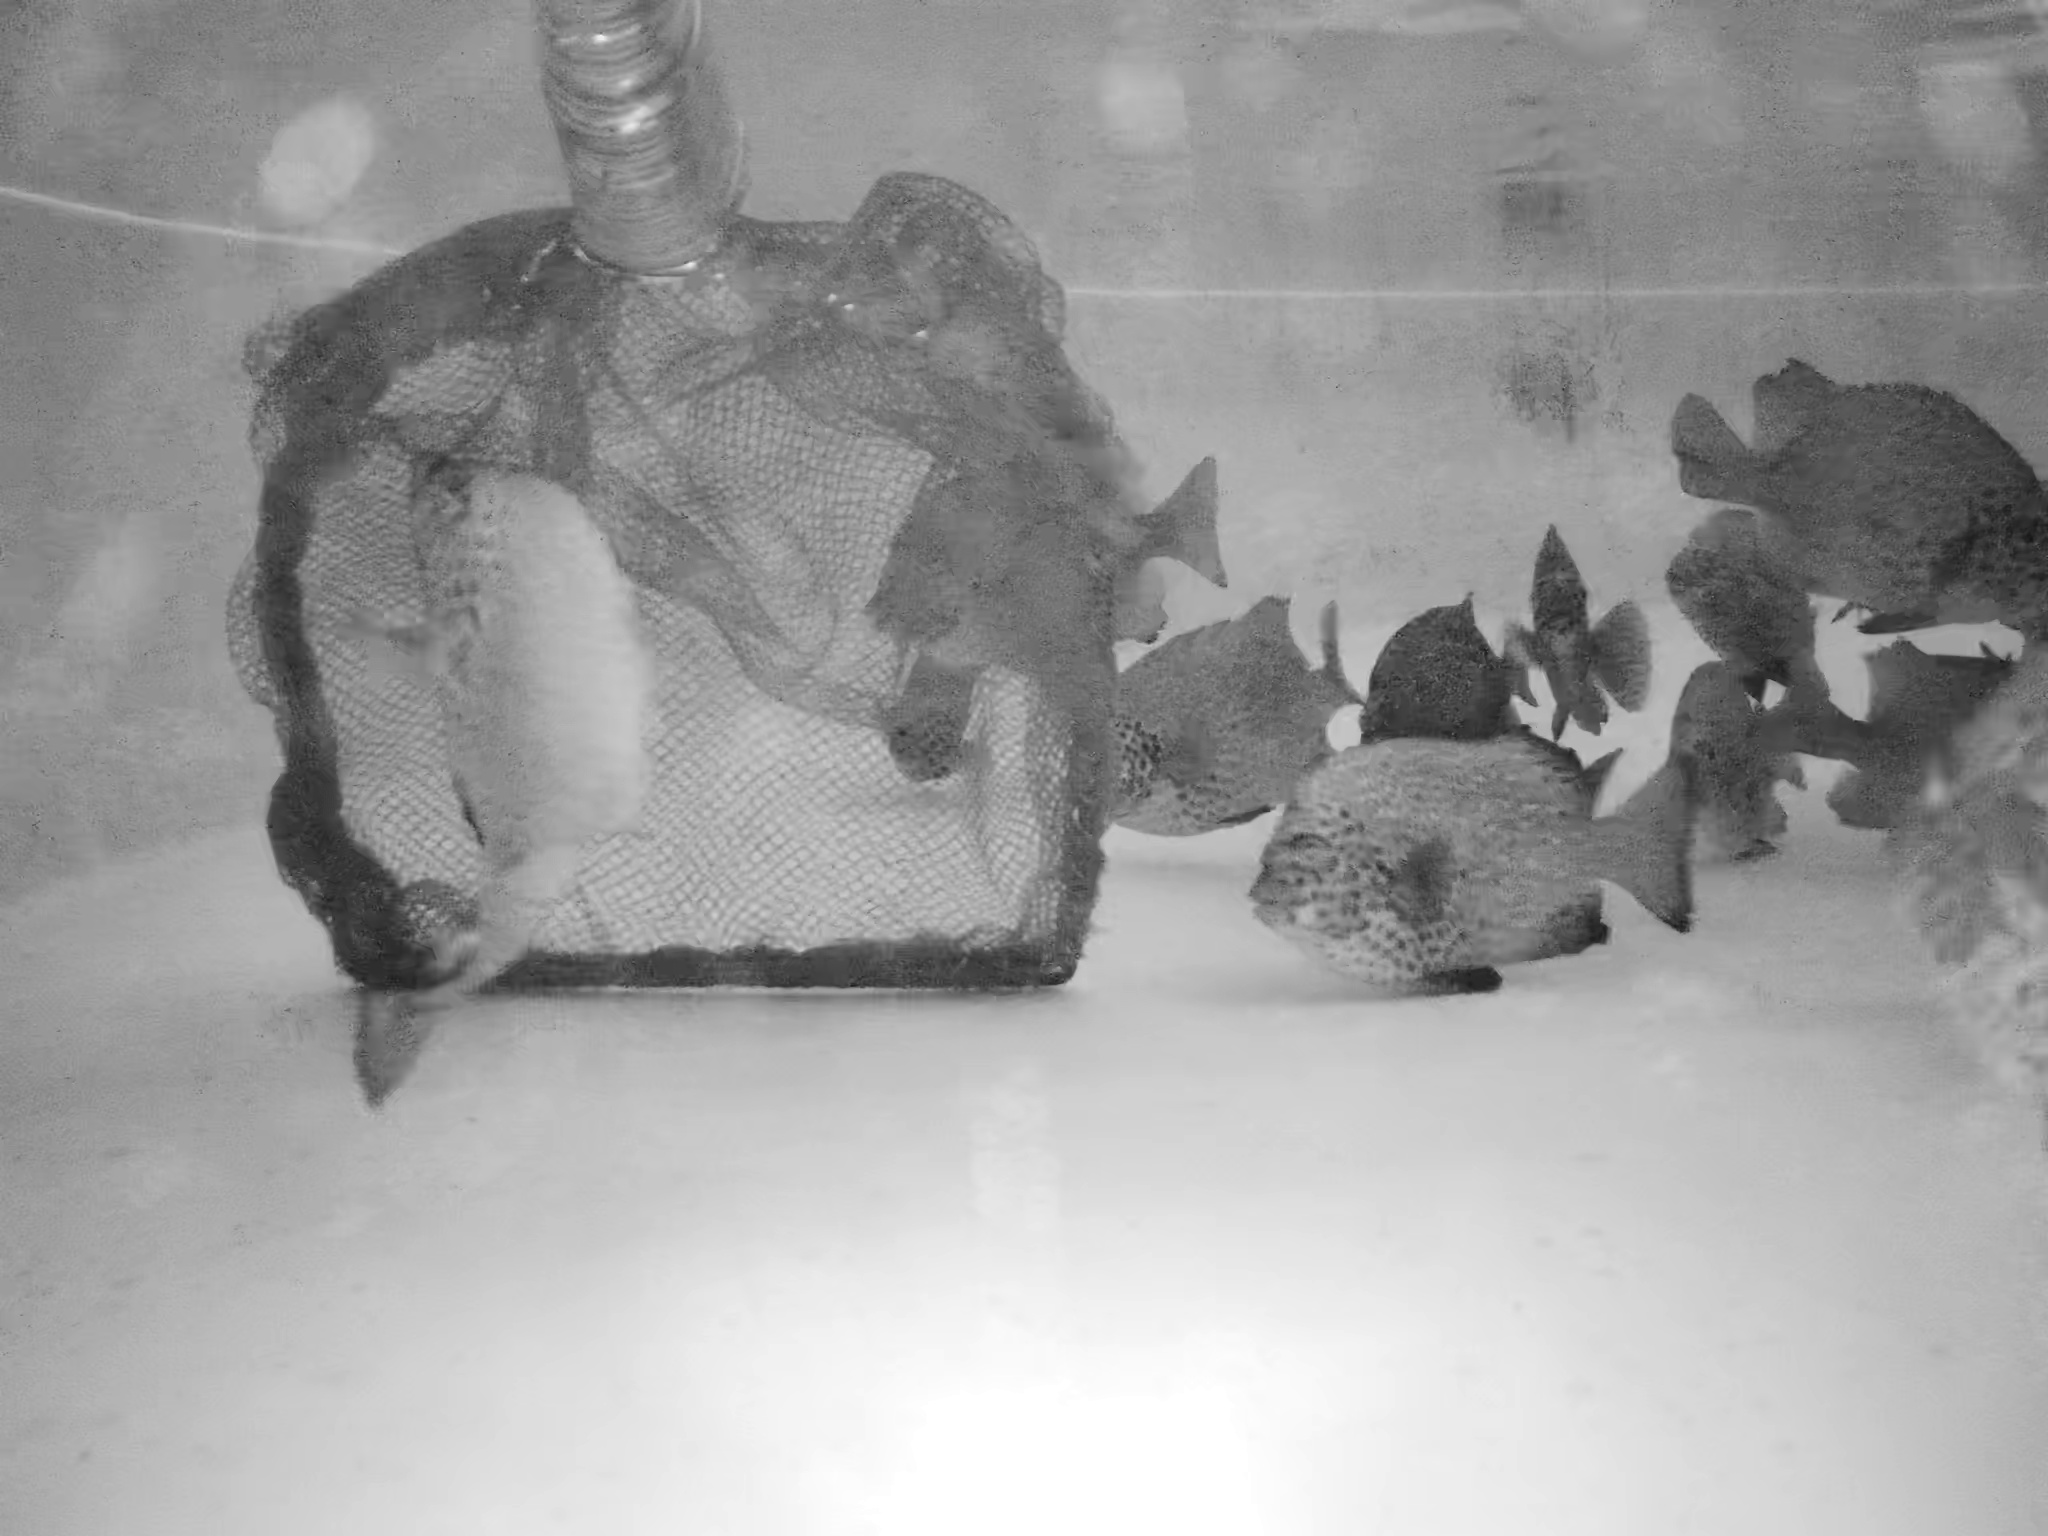fish: (352, 423, 656, 1120), (1288, 724, 1764, 1010), (1672, 324, 2048, 632), (1000, 610, 1351, 845), (1892, 674, 2048, 1092), (866, 471, 1243, 621), (1667, 529, 1866, 766), (1588, 665, 1848, 841), (1505, 513, 1693, 750), (1835, 621, 2048, 821), (1330, 579, 1508, 753), (889, 631, 998, 800)
